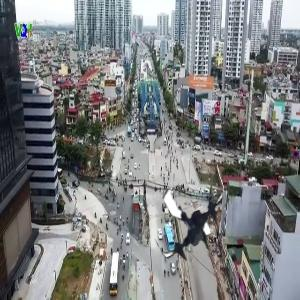drone: (145, 172, 236, 263)
